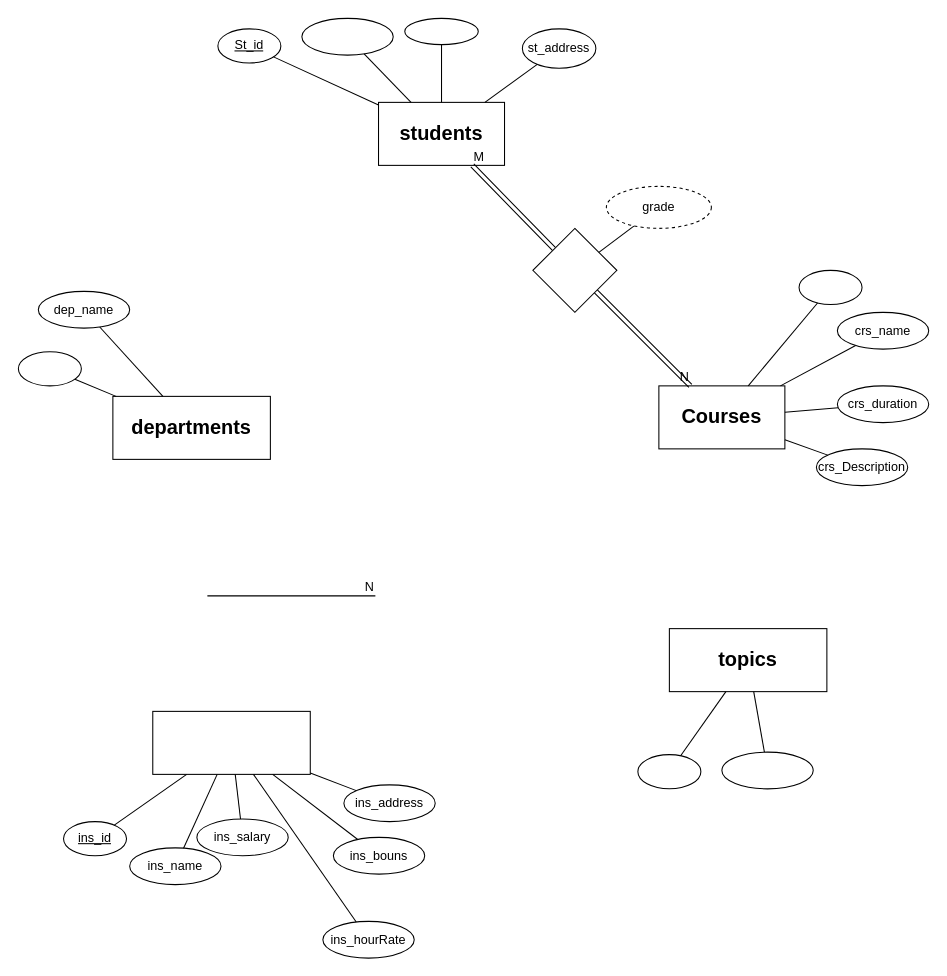
Image size: 947x976. Some labels were removed from this diagram. The centre of each missing label's shape, as x and y in pixels:
"crs_id" goes at (830,286).
"dept_id" goes at (49,368).
"instructors" goes at (231,742).
"St_age" goes at (441,31).
"studentName" goes at (347,36).
"takes" goes at (574,269).
"top_id" goes at (669,771).
"top_name" goes at (767,770).
